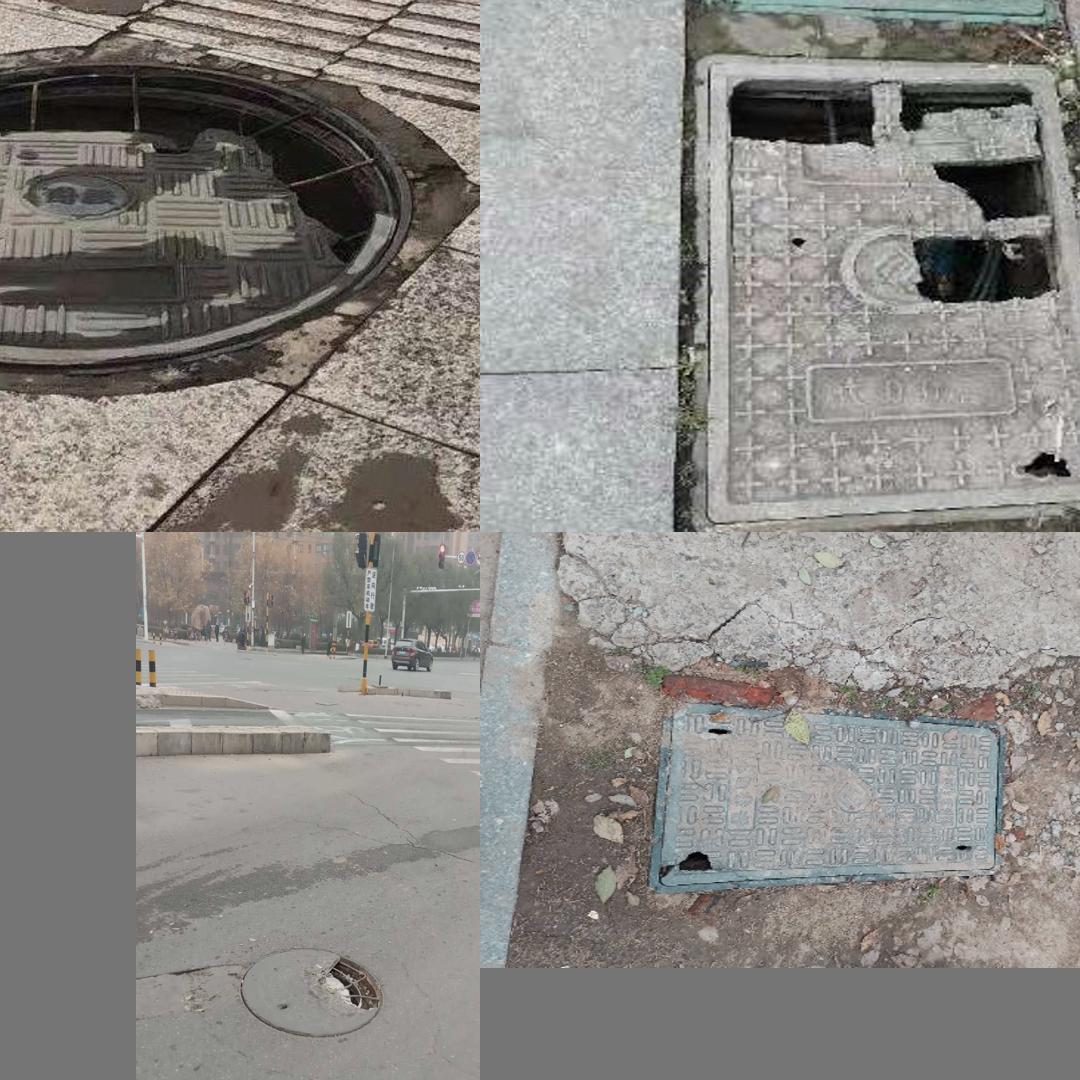broke: (692, 53, 1080, 532), (0, 55, 415, 375), (646, 701, 1005, 891), (240, 948, 383, 1036)
